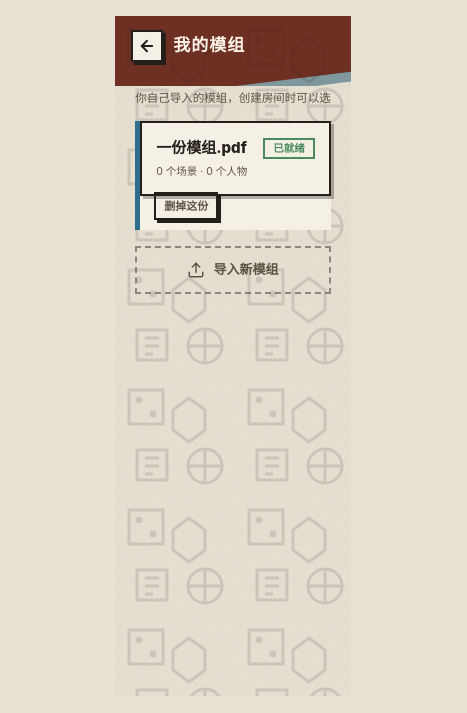
Test: 删不掉时把后端那句话原样显示——它是下一步，不是"失败了"
The image size is (467, 713).
Click the button "删掉这份" at (186, 206), box [154, 192, 218, 220]
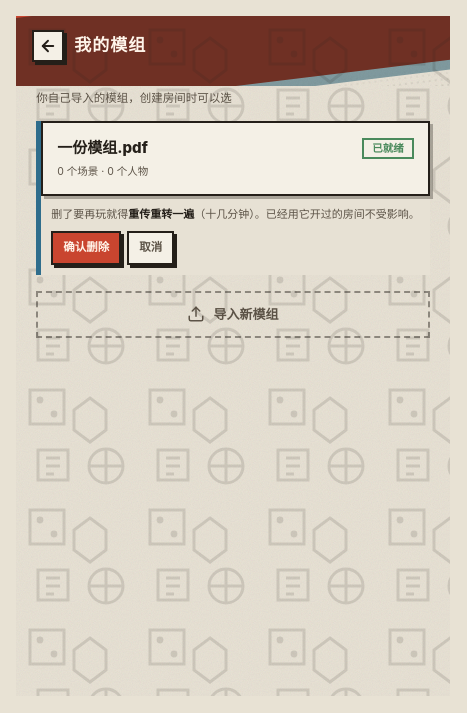
Click the button "确认删除" at (86, 248), box [51, 231, 121, 265]
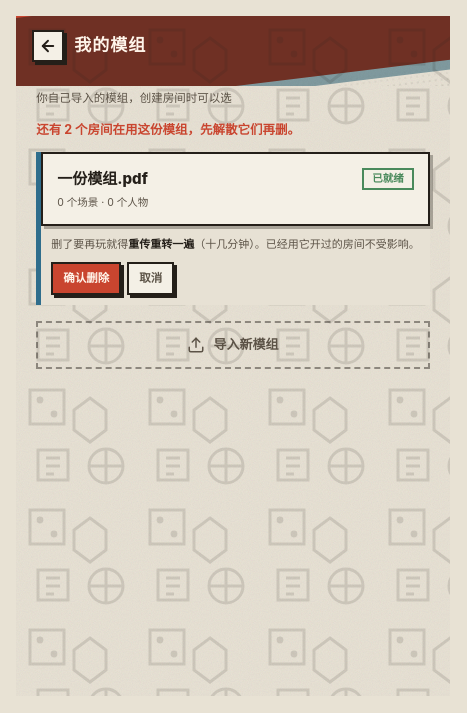
Result: the text "还有 2 个房间在用这份模组，先解散它们再删。" is shown at [36, 122, 300, 137]
